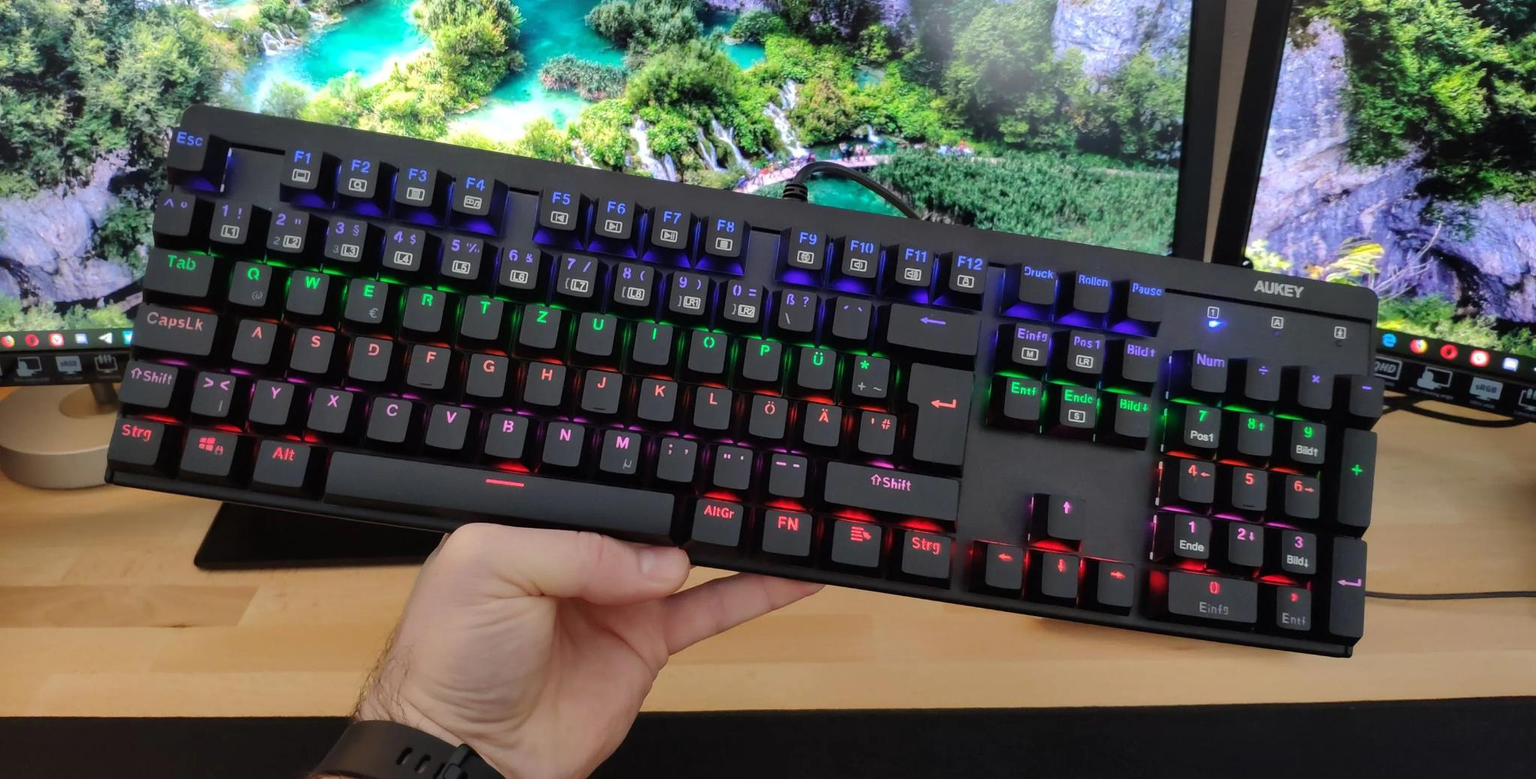0: (720, 278, 766, 325)
1: (209, 197, 256, 247)
2: (266, 205, 312, 255)
3: (322, 214, 368, 264)
4: (377, 224, 425, 274)
5: (437, 232, 485, 281)
6: (496, 243, 544, 291)
7: (554, 251, 600, 301)
8: (611, 262, 658, 309)
9: (665, 271, 712, 318)
a: (232, 316, 277, 363)
accent: (831, 295, 872, 340)
ae: (802, 400, 841, 446)
alt-left: (252, 437, 313, 487)
altgr-right: (692, 494, 746, 545)
b: (484, 411, 530, 457)
c: (366, 395, 413, 442)
caret: (152, 188, 198, 238)
comma: (657, 436, 698, 482)
d: (347, 334, 394, 381)
del: (885, 303, 980, 352)
e: (344, 276, 388, 322)
enter: (908, 360, 974, 465)
f: (406, 341, 450, 388)
g: (465, 351, 508, 397)
h: (524, 358, 566, 405)
hash: (859, 409, 897, 454)
i: (632, 319, 672, 364)
j: (581, 367, 622, 412)
k: (638, 375, 677, 420)
keyboard: (93, 91, 1395, 675)
l: (693, 383, 731, 428)
less: (190, 370, 236, 416)
m: (599, 427, 642, 474)
minus: (768, 451, 809, 496)
n: (542, 419, 585, 466)
o: (686, 328, 728, 373)
oe: (748, 391, 788, 438)
p: (742, 336, 782, 380)
plus: (848, 352, 890, 398)
point: (713, 443, 754, 489)
q: (227, 259, 272, 305)
r: (402, 285, 446, 331)
s: (289, 325, 335, 373)
shift-left: (115, 361, 179, 410)
shift-lock: (132, 303, 219, 355)
shift-right: (824, 460, 959, 517)
space: (323, 448, 674, 532)
ss: (776, 288, 819, 333)
strg-left: (107, 416, 167, 466)
strg-right: (899, 529, 955, 578)
t: (460, 294, 504, 339)
tab: (141, 247, 215, 297)
u: (574, 310, 617, 355)
ue: (795, 343, 836, 390)
v: (424, 403, 471, 448)
w: (286, 268, 329, 314)
x: (307, 387, 354, 433)
y: (248, 379, 295, 425)
z: (518, 302, 562, 348)
